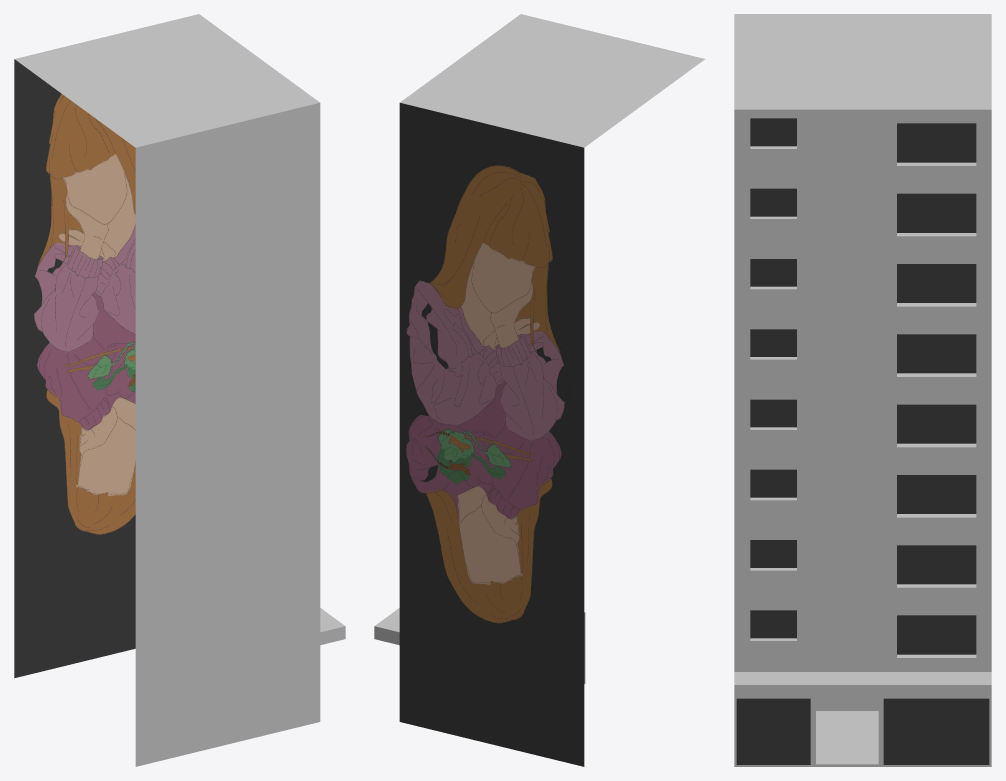
The model's file is edificio 3.glb.
The picture shows the model from 3 angles, left to right: view 1: azimuth 30°, elevation 25°; view 2: azimuth 150°, elevation 25°; view 3: azimuth 270°, elevation 25°; orthographic projection. The views are drawn at different scales.
Visible parts, largest first — view 1: Edificio; view 2: Edificio; view 3: Edificio.
Part boxes in pixels (<box>): Edificio: <box>14,14,345,766</box>; Edificio: <box>374,14,704,766</box>; Edificio: <box>734,14,991,766</box>.
Bounding box in the file's own units: 5.74 × 16.16 × 5.73.
3 materials, 1 textured.
